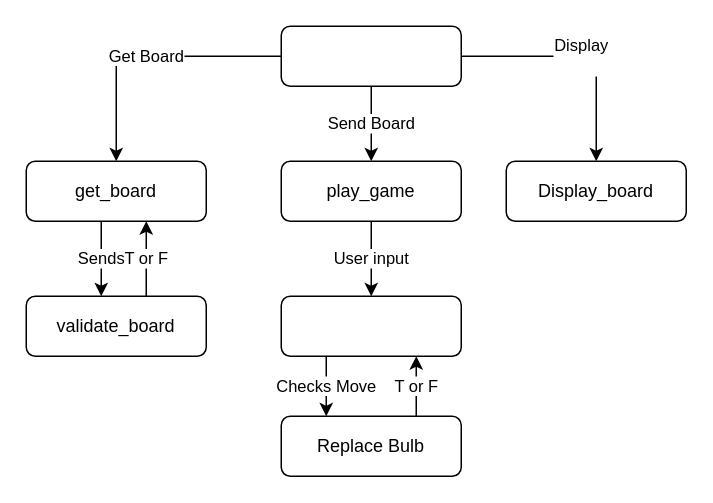
The diagram is 713 pixels wide and 503 high, and some of its shapes have lost their labels. Here are the shapes that lost their labels. From the top down, the box of each, then its label:
(280, 25, 461, 86): Main
(280, 295, 461, 356): get_move
